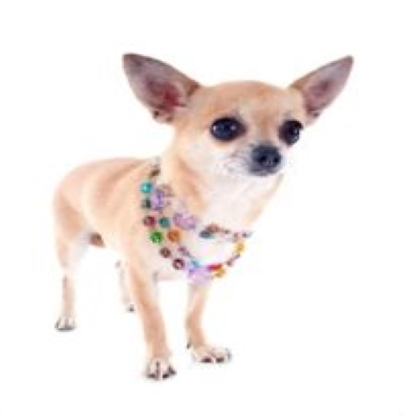chihuahua: (48, 51, 355, 377)
